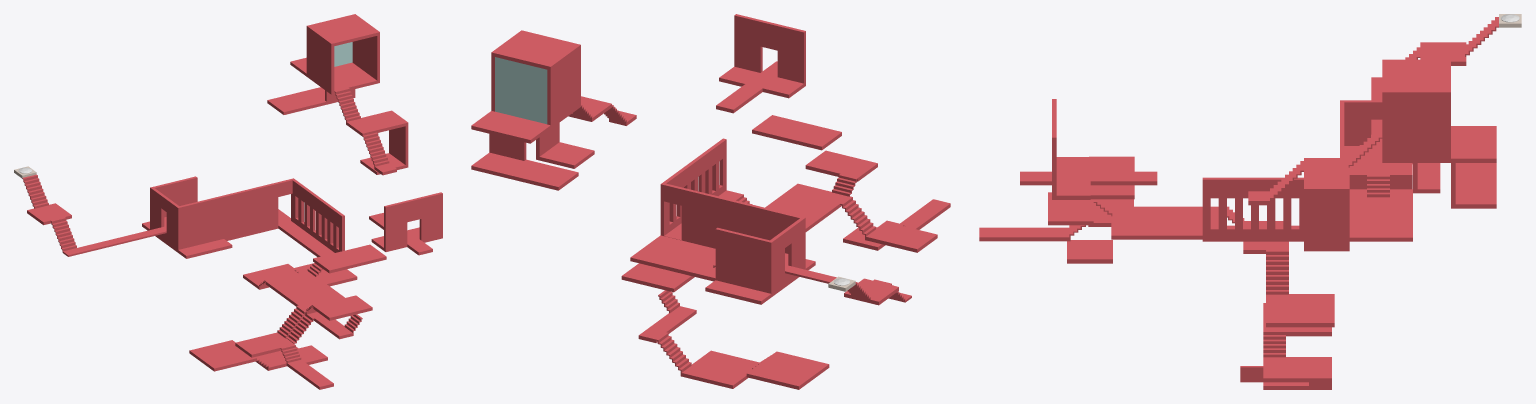
File: stage1-1.fbx
3 views of the same model, side by side, from view 1: azimuth 30°, elevation 25°; view 2: azimuth 150°, elevation 25°; view 3: azimuth 270°, elevation 25° (orthographic). The views are drawn at different scales.
Visible parts, largest first — view 1: Slab&5stair, Wall, Goal, window; view 2: Slab&5stair, Wall, window, Goal; view 3: Slab&5stair, Wall, Goal.
Part boxes in pixels (x1,y1,x2,y2): Slab&5stair: (142,14,432,389); Wall: (150,14,442,252); Goal: (14,166,83,256); window: (334,42,352,66); Slab&5stair: (471,31,950,389); Wall: (489,14,805,297); window: (495,57,547,124); Goal: (828,276,911,305); Slab&5stair: (979,61,1496,389); Wall: (1052,59,1455,251); Goal: (1371,14,1521,87).
Bounding box in the file's own units: 8190 × 6533 × 8606.
